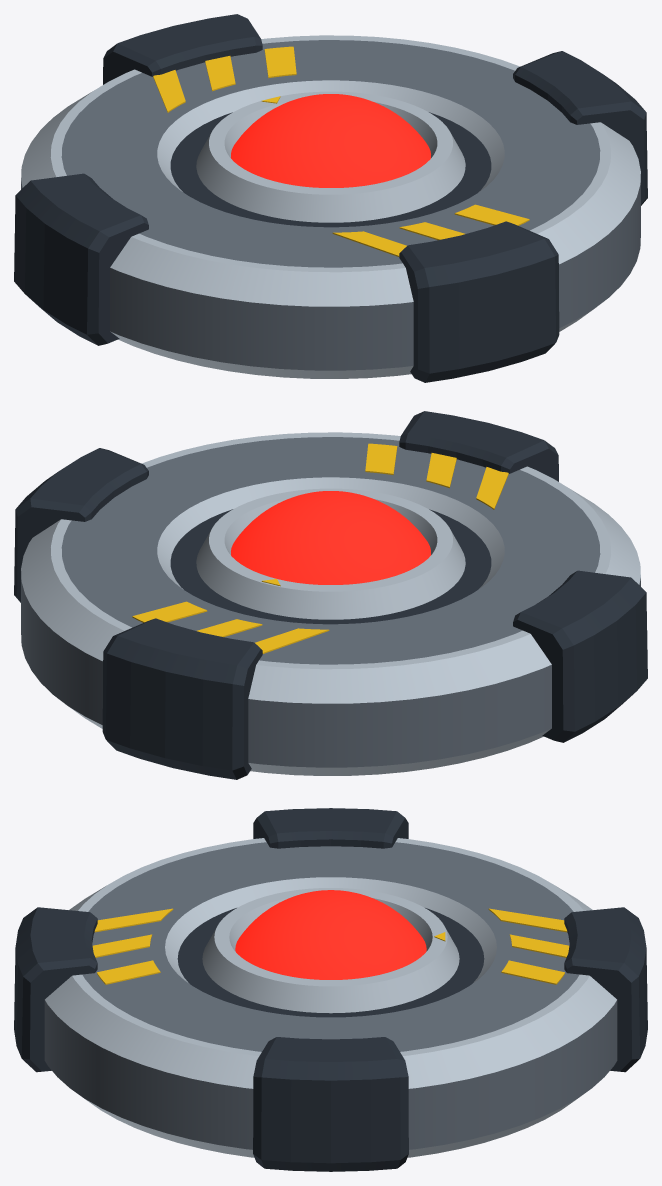
The model's file is jump_mine.glb.
The picture shows the model from 3 angles, top to bottom: view 1: azimuth 30°, elevation 25°; view 2: azimuth 150°, elevation 25°; view 3: azimuth 270°, elevation 25°; orthographic projection. The views are drawn at different scales.
Visible parts, largest first — view 1: JumpMine; view 2: JumpMine; view 3: JumpMine.
Part boxes in pixels (<box>): JumpMine: <box>14,14,647,382</box>; JumpMine: <box>14,411,647,779</box>; JumpMine: <box>14,808,647,1171</box>.
Bounding box in the file's own units: 0.848 × 0.214 × 0.848.
